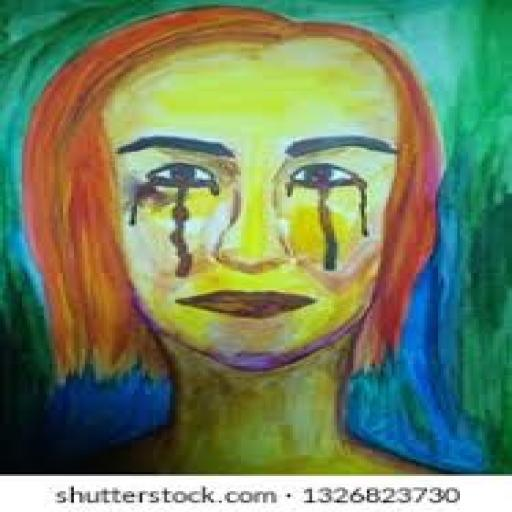person: (14, 0, 461, 472)
